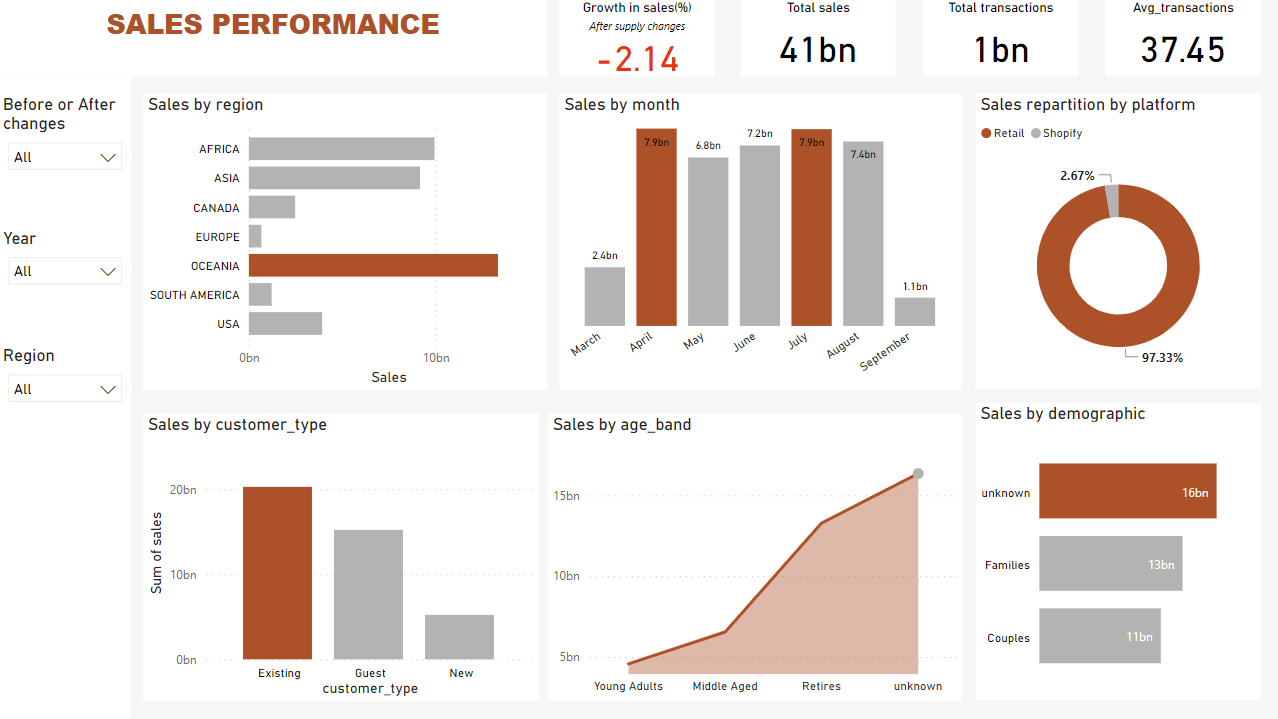

Layout of this report page (visuals, bound fields, positions):
{"tool":"powerbi","page":{"name":"Page 1","canvas":[1280,720],"ordinal":0},"visuals":[{"type":"textbox","box":[0,0,562,54.3],"z":0},{"type":"slicer","fields":{"Values":["whole_dataset.calendar_year"]},"box":[1036,0,225,71.2],"z":1000},{"type":"lineChart","title":"Sales by Week ","fields":{"Y":["Sum(whole_dataset.sales)"],"Category":["CALENDAR.WEEK NUMBER"]},"box":[1.2,166.4,960,326.8],"z":3000},{"type":"clusteredColumnChart","title":"Sales by MONTH","fields":{"Category":["CALENDAR.MONTH"],"Y":["Sum(whole_dataset.sales)"]},"box":[0,511.4,312.4,208.6],"z":4000},{"type":"donutChart","title":"Sales by platform","fields":{"Y":["Sum(whole_dataset.sales)"],"Category":["whole_dataset.platform"]},"box":[336.5,511.4,289.4,208.6],"z":5000},{"type":"barChart","title":"Sales by age_band","fields":{"Category":["whole_dataset.age_band"],"Y":["Sum(whole_dataset.sales)"]},"box":[653.7,511.4,330.5,208.6],"z":6000},{"type":"pieChart","title":"Sales by customer_type","fields":{"Category":["whole_dataset.customer_type"],"Y":["Sum(whole_dataset.sales)"]},"box":[970.9,177.3,308.7,303.9],"z":7000},{"type":"clusteredColumnChart","title":"Sales by demographic","fields":{"Category":["whole_dataset.demographic"],"Y":["Sum(whole_dataset.sales)"]},"box":[1001,511.4,278.6,203.8],"z":8000},{"type":"slicer","fields":{"Values":["whole_dataset.region"]},"box":[803.8,0,225,71.2],"z":9000},{"type":"slicer","fields":{"Values":["whole_dataset.impact"]},"box":[562,0,225.5,71.2],"z":10000},{"type":"card","title":"Avg_transactions","fields":{"Values":["All measure.AVG_TRANSACTION"]},"box":[835.9,77.2,155.6,77.2],"z":13000},{"type":"card","title":"Total transactions","fields":{"Values":["Sum(whole_dataset.transactions)"]},"box":[565.9,77.2,155.6,77.2],"z":19000},{"type":"card","title":"Total sales","fields":{"Values":["Sum(whole_dataset.sales)"]},"box":[295.9,77.2,155.6,77.2],"z":21000},{"type":"card","title":"Weeks","fields":{"Values":["Count(whole_dataset.week_number)"]},"box":[1105.9,77.2,155.6,77.2],"z":22500},{"type":"card","title":"Growth in sales(%)","fields":{"Values":["whole_dataset.growth"]},"box":[26.5,77.2,155,77],"z":23000}]}

Visuals, with their boxes in screenshot pixels (x1, y1, x2, y2), scaled from the page's 1280x720 canvas onto the 1278x719 screenshot:
textbox: left=0, top=0, right=561, bottom=54
slicer - whole_dataset.calendar_year: left=1034, top=0, right=1259, bottom=71
"Sales by Week " lineChart: left=1, top=166, right=960, bottom=493
"Sales by MONTH" clusteredColumnChart: left=0, top=511, right=312, bottom=718
"Sales by platform" donutChart: left=336, top=511, right=625, bottom=718
"Sales by age_band" barChart: left=653, top=511, right=983, bottom=718
"Sales by customer_type" pieChart: left=969, top=177, right=1277, bottom=481
"Sales by demographic" clusteredColumnChart: left=999, top=511, right=1277, bottom=714
slicer - whole_dataset.region: left=803, top=0, right=1027, bottom=71
slicer - whole_dataset.impact: left=561, top=0, right=786, bottom=71
"Avg_transactions" card: left=835, top=77, right=990, bottom=154
"Total transactions" card: left=565, top=77, right=720, bottom=154
"Total sales" card: left=295, top=77, right=451, bottom=154
"Weeks" card: left=1104, top=77, right=1260, bottom=154
"Growth in sales(%)" card: left=26, top=77, right=181, bottom=154
